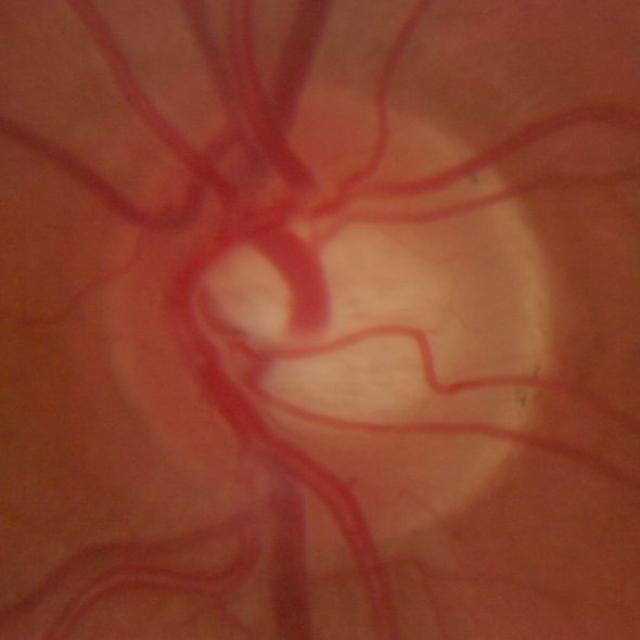OC: (212, 212, 458, 430)
OD: (106, 96, 546, 554)
